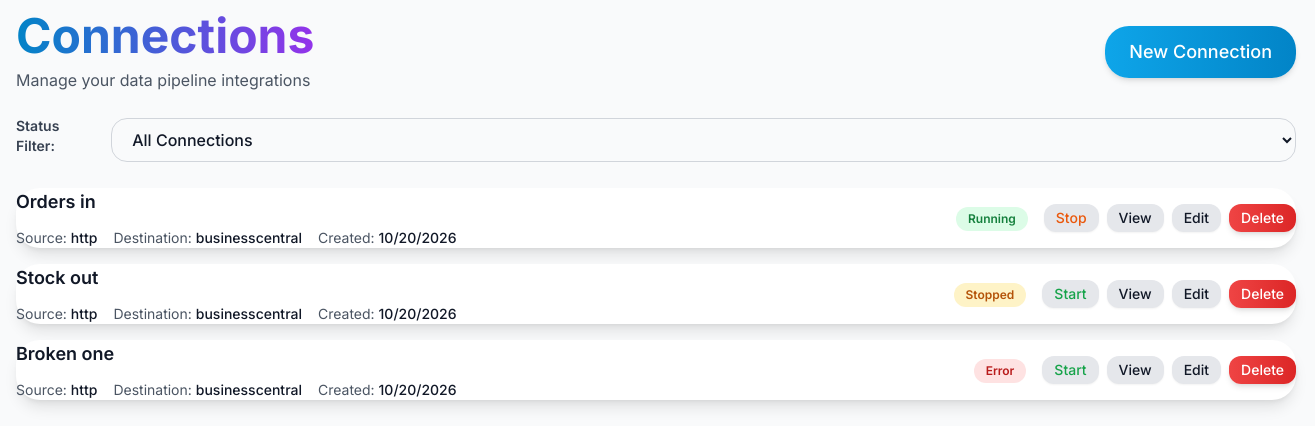
ConnectionsList: delete › asks first, then removes the row and refreshes the summary
Expected: the heading "Orders in" is shown, [16, 191, 96, 212]
Click the button "Delete" in the row of "Running". click: (1263, 218)
box: [1229, 204, 1296, 232]
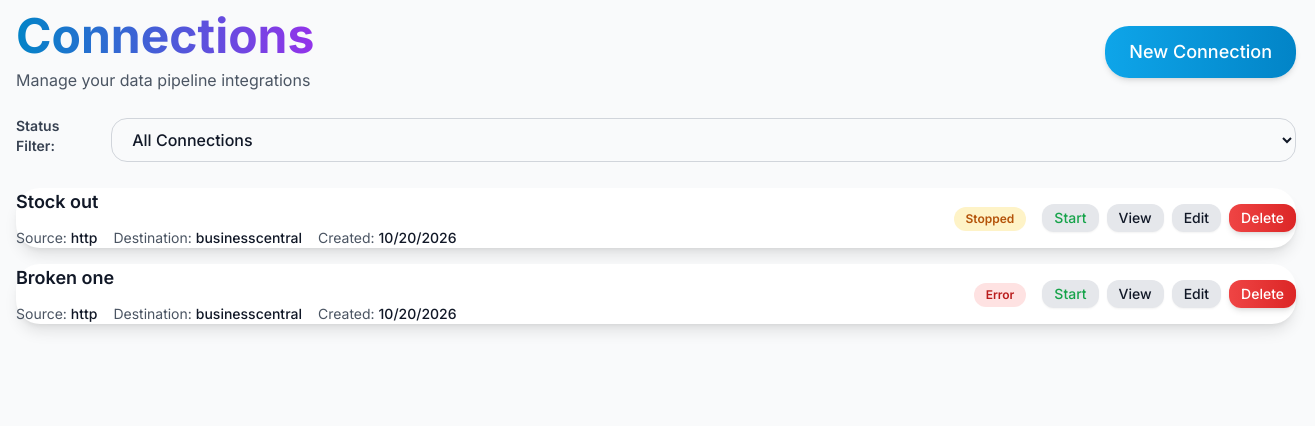
Expected: the heading "Stock out" is shown, [16, 191, 98, 212]
Now the heading "Orders in" is gone
